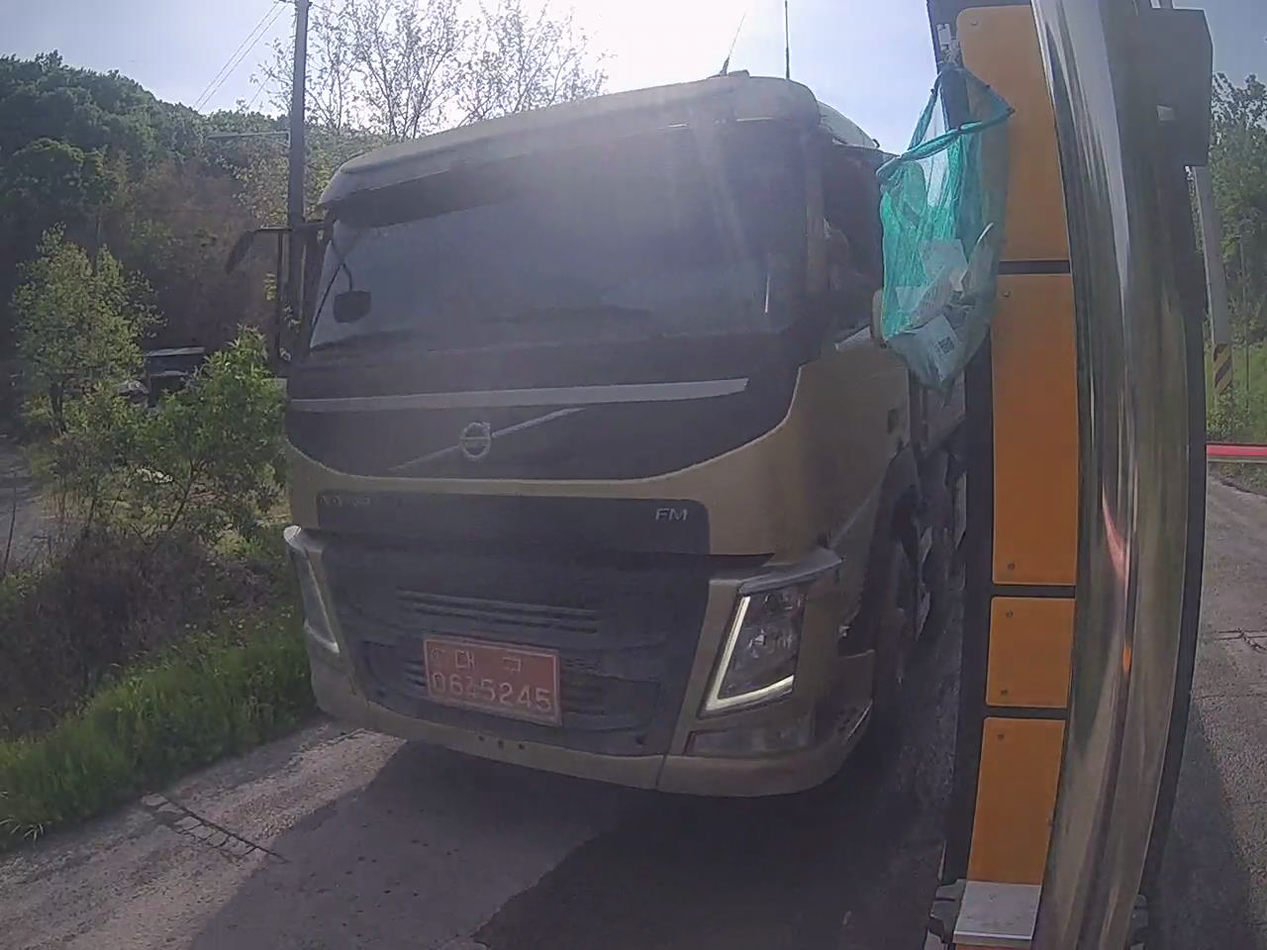license_plate: (426, 638, 559, 724)
truck: (287, 74, 963, 794)
